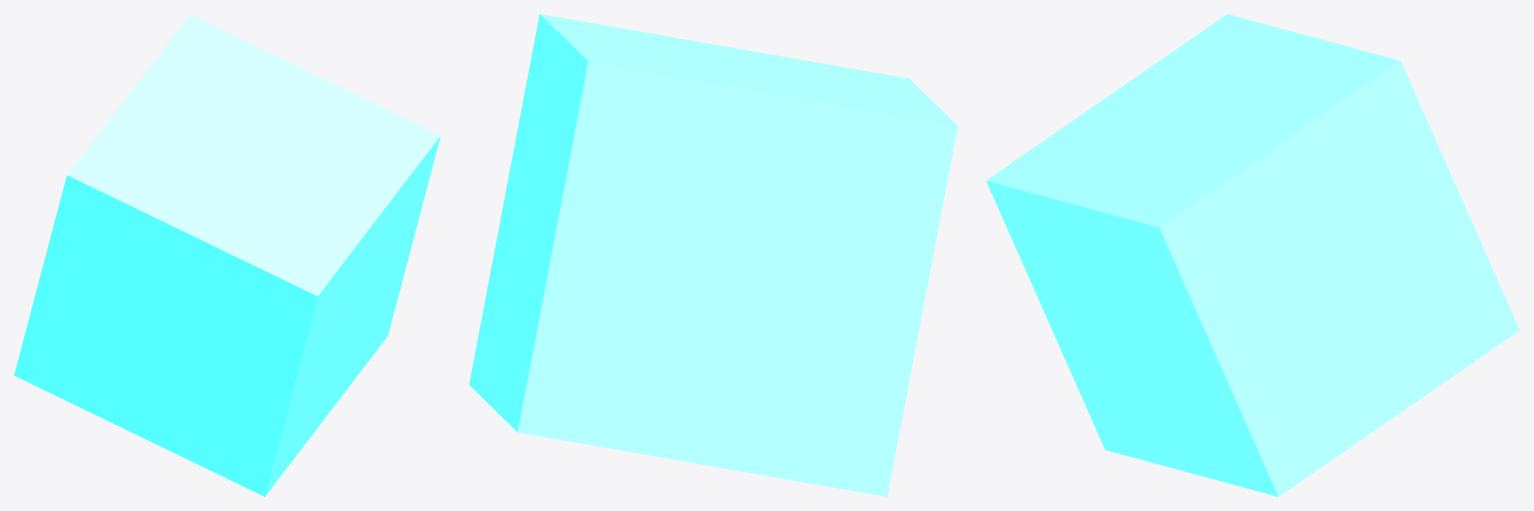
File: holo.glb
The picture shows the model from 3 angles, left to right: view 1: azimuth 30°, elevation 25°; view 2: azimuth 150°, elevation 25°; view 3: azimuth 270°, elevation 25°; orthographic projection. The views are drawn at different scales.
Parts seen in each view (by area): view 1: Cube; view 2: Cube; view 3: Cube.
Boxes of the visible parts, x1,y1,x2,y2 form: Cube: [14, 14, 440, 496]; Cube: [469, 14, 957, 496]; Cube: [986, 14, 1519, 496].
Size of the model in its own units: 1.1 by 1.15 by 1.32.
